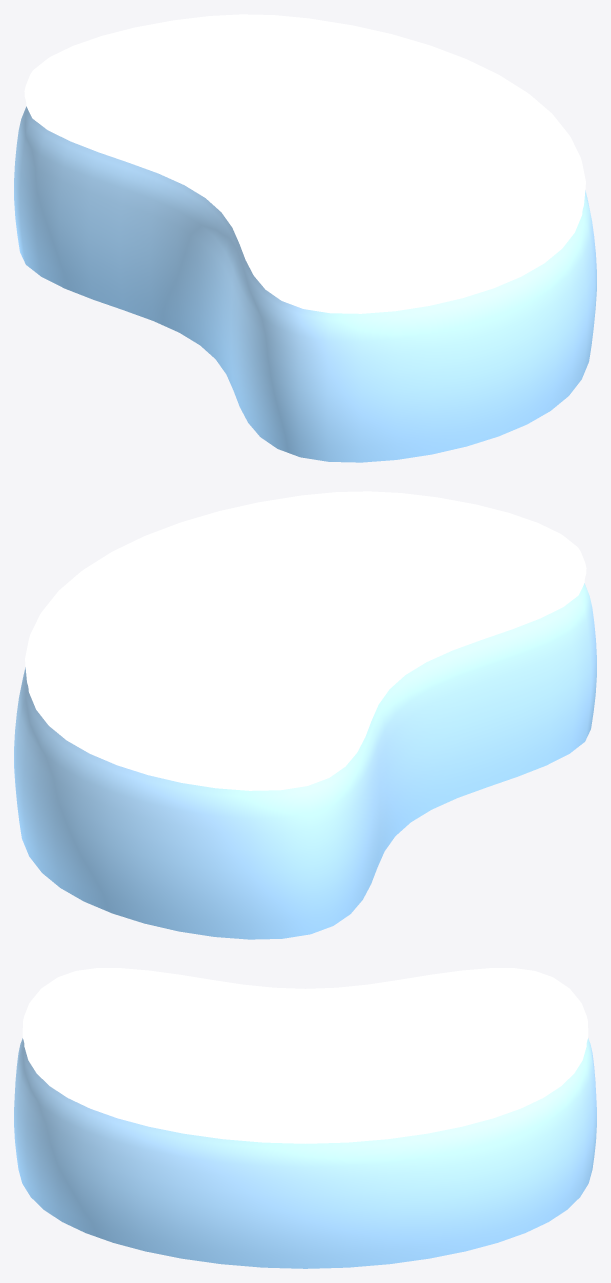
Rendered from ground_006.glb.
3 views of the same model, one above another, from view 1: azimuth 30°, elevation 25°; view 2: azimuth 150°, elevation 25°; view 3: azimuth 270°, elevation 25° (orthographic). The views are drawn at different scales.
Visible parts, largest first — view 1: ground_006; view 2: ground_006; view 3: ground_006.
Boxes of the visible parts, x1,y1,x2,y2 form: ground_006: (14,14,596,462); ground_006: (14,491,596,939); ground_006: (14,968,596,1268).
Size of the model in its own units: 10.43 by 4.64 by 15.78.
Materials: 2 (2 with a texture image).
